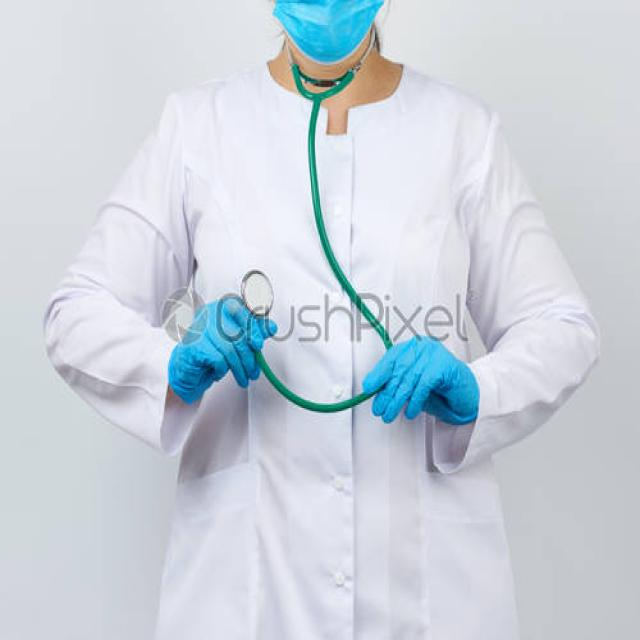Gloves: (359, 324, 487, 458), (165, 291, 283, 411)
